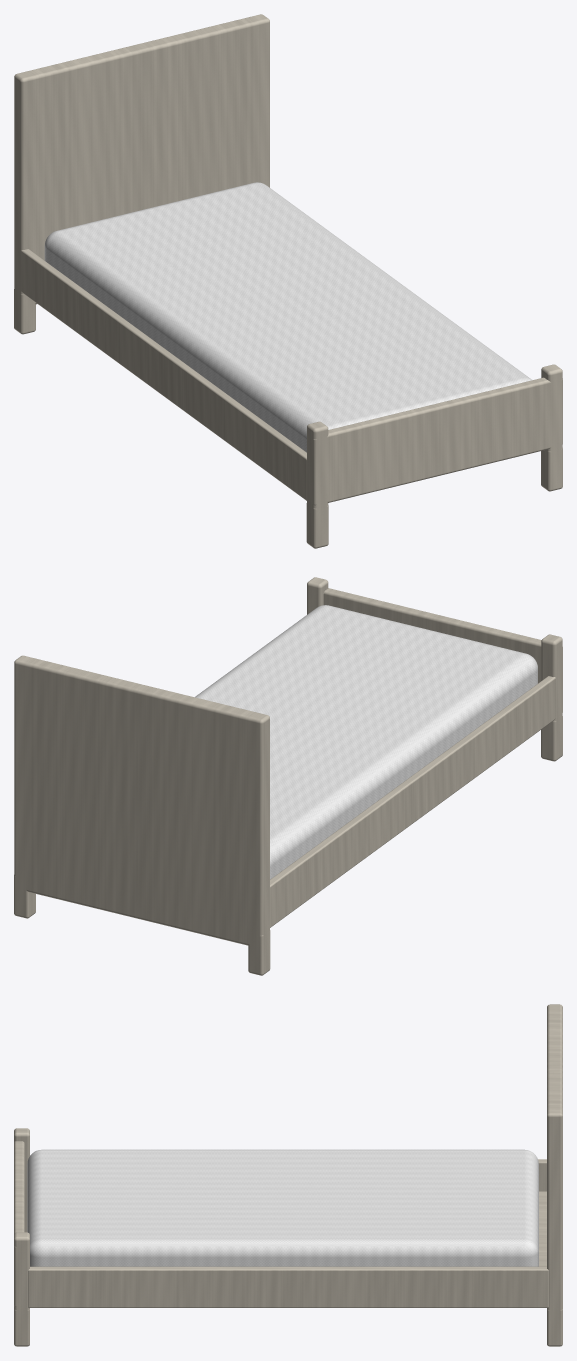
Rendered from krevat-royal.glb.
3 renders of one model, top to bottom at view 1: azimuth 30°, elevation 25°; view 2: azimuth 150°, elevation 25°; view 3: azimuth 270°, elevation 25°, orthographic. The views are drawn at different scales.
Parts seen in each view (by area): view 1: furniture; view 2: furniture; view 3: furniture.
Boxes of the visible parts, x1,y1,x2,y2 form: furniture: (14,14,562,548); furniture: (14,577,562,975); furniture: (14,1004,562,1346).
Bounding box in the file's own units: 0.98 × 0.96 × 2.05.
2 materials, 2 textured.
